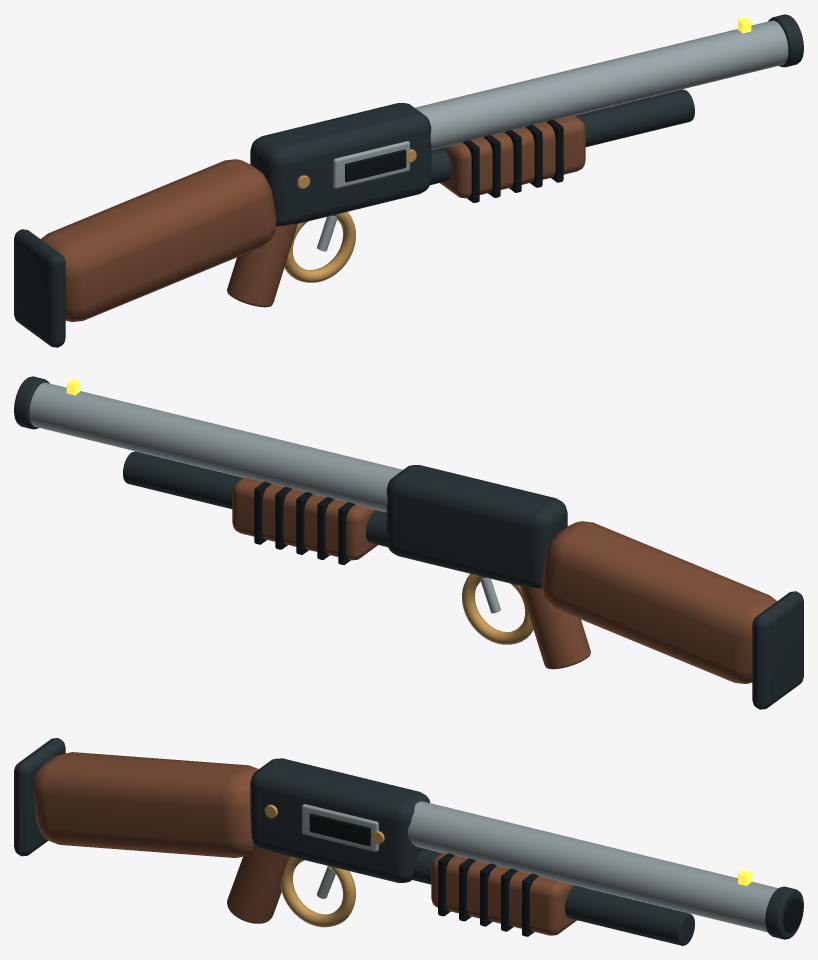
The model's file is shotgun.glb.
3 views of the same model, one above another, from view 1: azimuth 30°, elevation 25°; view 2: azimuth 150°, elevation 25°; view 3: azimuth 330°, elevation 25° (orthographic).
Visible parts, largest first — view 1: Stock, Barrel, Receiver, Pump_grip, Stock_pad, Magazine_tube, Grip, Trigger_guard, Ejection_port, Ejection_inner, Muzzle, Pump_rib.004 (+4 smaller); view 2: Stock, Barrel, Receiver, Pump_grip, Stock_pad, Magazine_tube, Grip, Trigger_guard, Muzzle, Pump_rib.004, Pump_rib.003, Pump_rib.002 (+2 smaller); view 3: Stock, Barrel, Receiver, Pump_grip, Magazine_tube, Grip, Stock_pad, Trigger_guard, Ejection_port, Ejection_inner, Muzzle, Pump_rib (+5 smaller).
Boxes of the visible parts, x1,y1,x2,y2 form: Stock: [41, 159, 276, 321]; Barrel: [415, 20, 788, 150]; Receiver: [250, 103, 431, 226]; Pump_grip: [433, 115, 585, 198]; Stock_pad: [14, 229, 65, 347]; Magazine_tube: [430, 89, 694, 185]; Grip: [227, 224, 297, 307]; Trigger_guard: [284, 212, 355, 282]; Ejection_port: [333, 141, 409, 188]; Ejection_inner: [345, 149, 406, 182]; Muzzle: [768, 14, 803, 67]; Pump_rib.004: [546, 119, 563, 182]; Stock: [541, 521, 776, 683]; Barrel: [29, 382, 402, 512]; Receiver: [386, 465, 567, 588]; Pump_grip: [232, 477, 384, 560]; Stock_pad: [752, 591, 803, 709]; Magazine_tube: [123, 451, 387, 547]; Grip: [520, 586, 590, 669]; Trigger_guard: [462, 574, 533, 644]; Muzzle: [14, 376, 49, 429]; Pump_rib.004: [254, 481, 271, 544]; Pump_rib.003: [275, 486, 292, 549]; Pump_rib.002: [296, 492, 313, 554]; Stock: [33, 752, 258, 857]; Barrel: [407, 801, 778, 932]; Receiver: [250, 758, 430, 882]; Pump_grip: [431, 853, 576, 935]; Magazine_tube: [412, 849, 694, 945]; Grip: [227, 845, 290, 923]; Stock_pad: [14, 738, 65, 856]; Trigger_guard: [280, 857, 355, 927]; Ejection_port: [302, 804, 378, 851]; Ejection_inner: [309, 813, 370, 845]; Muzzle: [765, 886, 803, 939]; Pump_rib: [438, 853, 454, 916].
Size of the model in its own units: 2 by 0.414 by 0.19.
